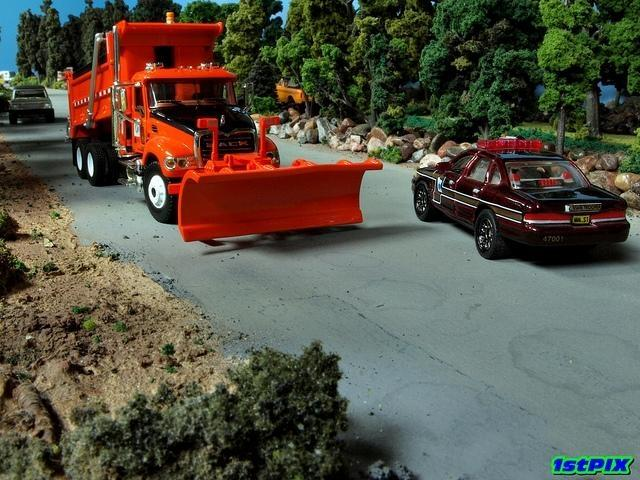car: (412, 139, 630, 260), (9, 86, 55, 126)
truck: (65, 10, 382, 236)
